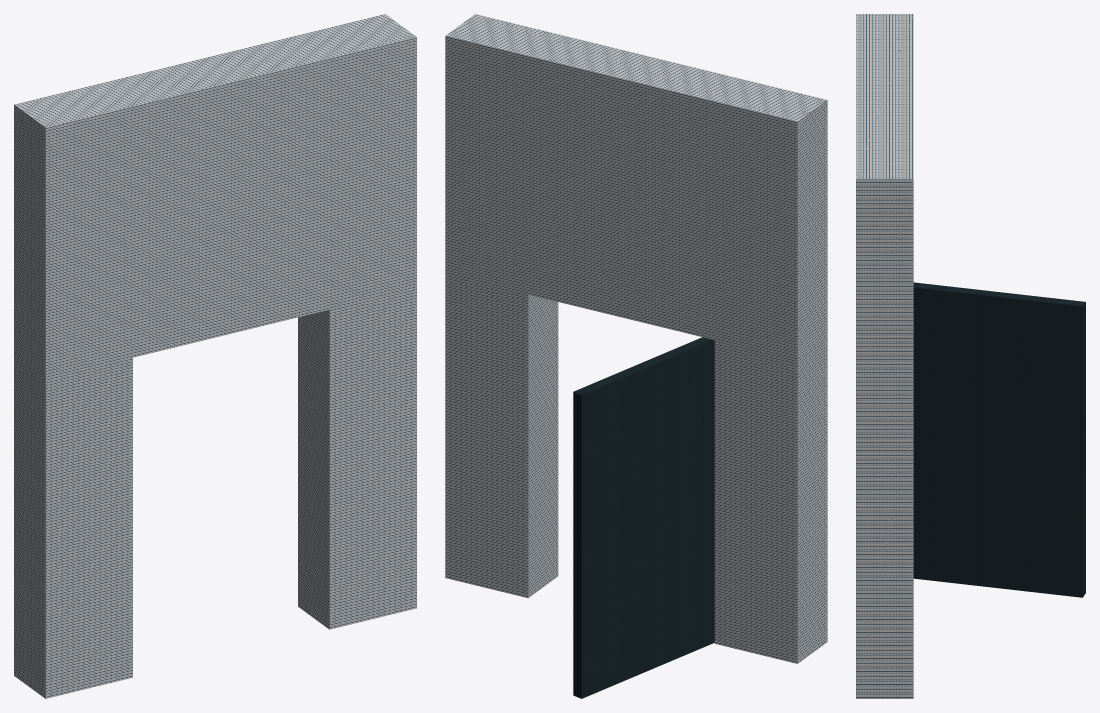
Rendered from door.FBX.
3 renders of one model, left to right at view 1: azimuth 30°, elevation 25°; view 2: azimuth 150°, elevation 25°; view 3: azimuth 270°, elevation 25°, orthographic. The views are drawn at different scales.
Visible parts, largest first — view 1: Cube__3_, Cube__5_, Cube__4_; view 2: Cube__3_, Cube__6_, Cube__5_, Cube__4_; view 3: Cube__6_, Cube__3_, Cube__4_.
Boxes of the visible parts, bbox=[...] form: Cube__3_: bbox=[14, 14, 416, 378]; Cube__5_: bbox=[14, 356, 132, 698]; Cube__4_: bbox=[298, 288, 416, 629]; Cube__3_: bbox=[445, 14, 827, 360]; Cube__6_: bbox=[573, 337, 714, 698]; Cube__5_: bbox=[714, 339, 827, 663]; Cube__4_: bbox=[445, 274, 558, 597]; Cube__6_: bbox=[913, 282, 1085, 597]; Cube__3_: bbox=[856, 14, 913, 407]; Cube__4_: bbox=[856, 407, 913, 698].
Size of the model in its own units: 134 by 197 by 78.8.
